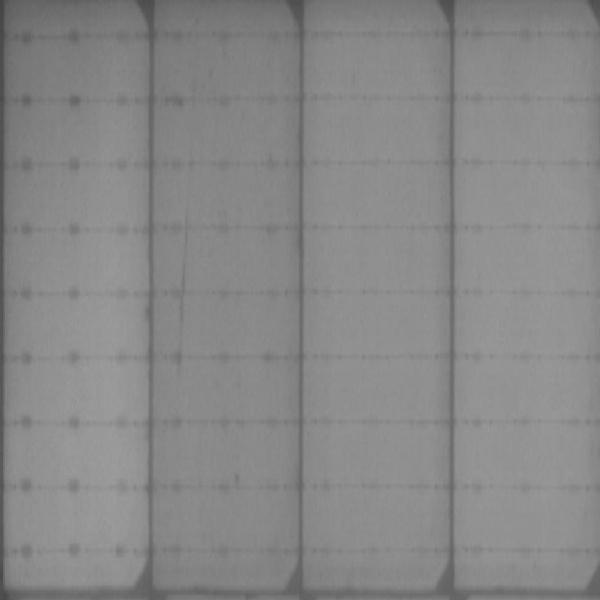scratch: (176, 189, 191, 373)
